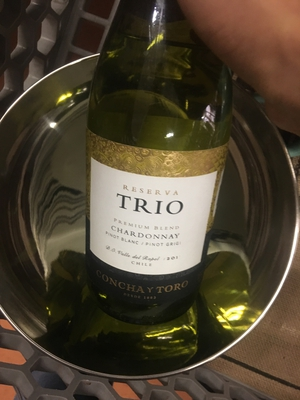trio chardonnay: (82, 20, 253, 343)
